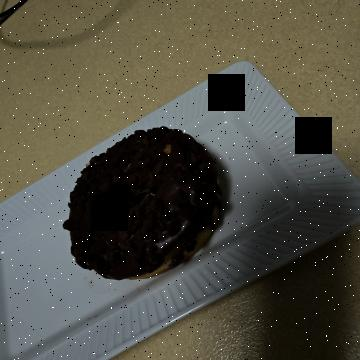doughnut: (107, 129, 279, 311)
